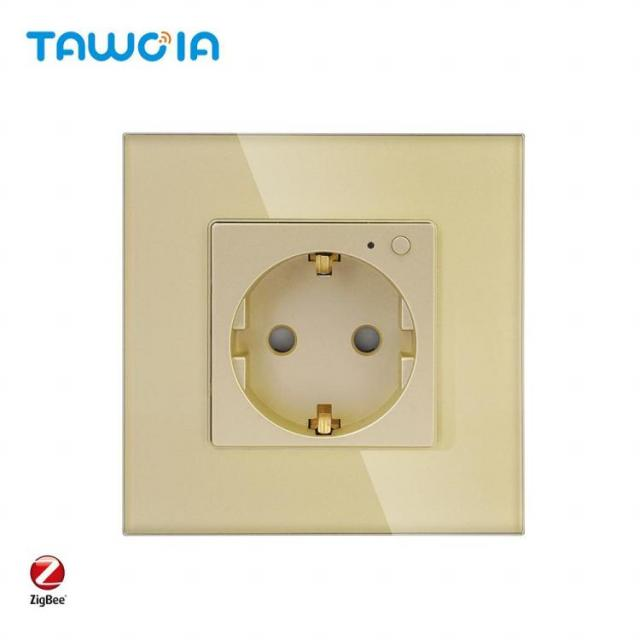typeb: (98, 108, 551, 563)
